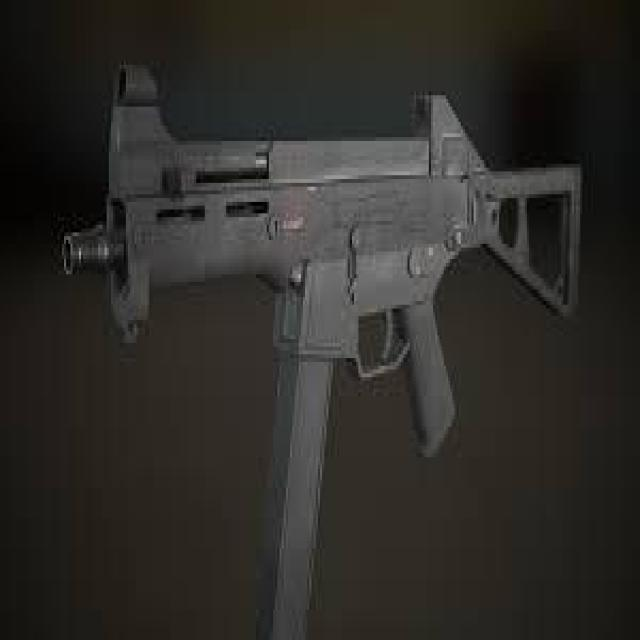Gun: (54, 51, 582, 630)
